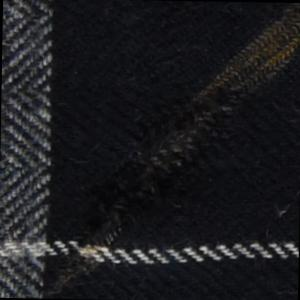Stain: (45, 1, 300, 300)
